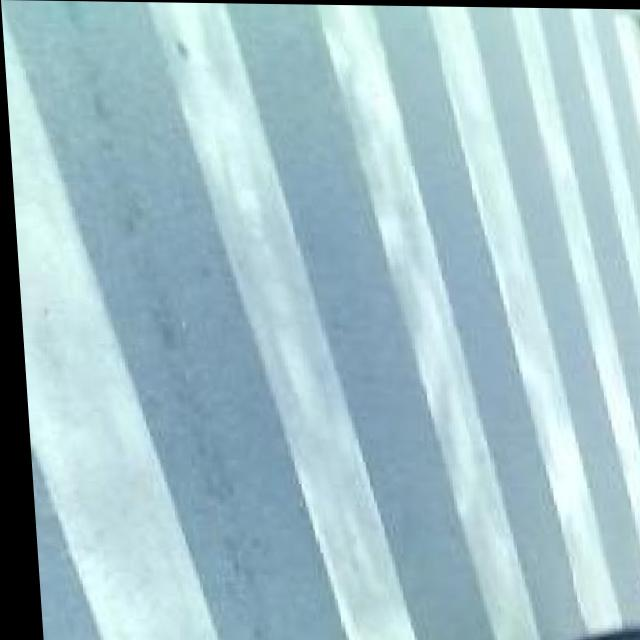zebra: (5, 11, 640, 627)
